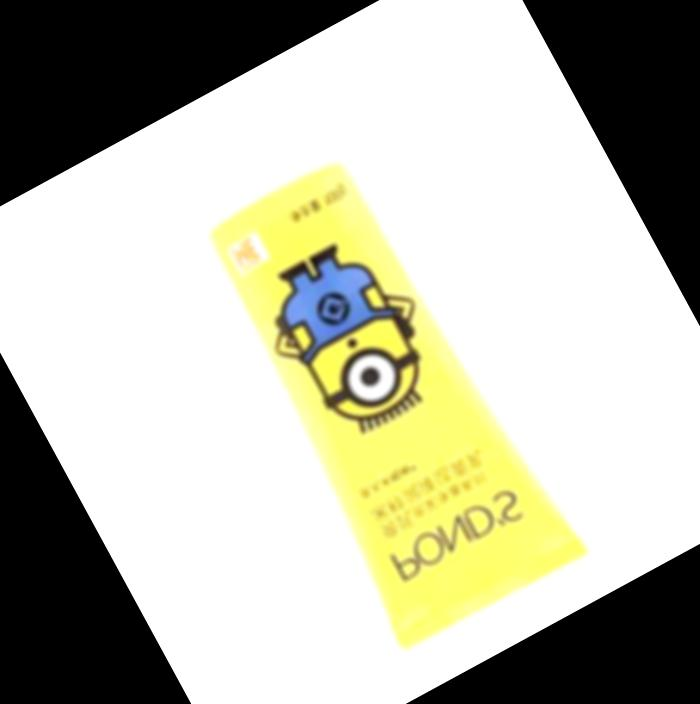cosmetic: (131, 58, 593, 654)
